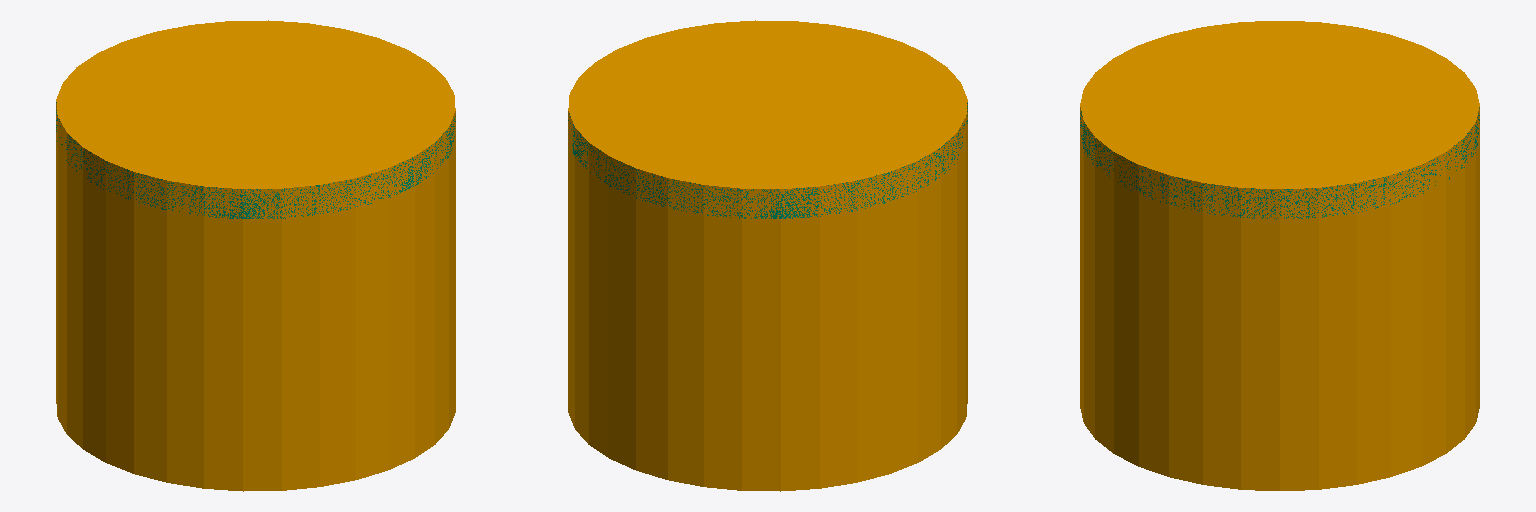
URDF robot description (2_T):
<?xml version="1.0"?>

<robot name="2_T">

    <!-- The base --> 
    <link name="base_link">
        <inertial>
            <origin xyz="0 0 .5" rpy="0 0 0"/>
            <mass value="1"/>
            <inertia ixx="0.1" ixy="0.0" ixz="0.0" iyy="0.1" iyz="0.0" izz="0.1"/>
        </inertial>
        <visual>
            <origin xyz="0 0 .5" rpy="0 0 0"/>
            <geometry>
                <cylinder length="1" radius="0.6"/>
            </geometry>
        </visual>
        <collision>
            <origin xyz="0 0 .5" rpy="0 0 0"/>
            <geometry>
                <cylinder length="1" radius="0.6"/>
            </geometry>
        </collision>
    </link>

    <!-- 0 -->
    <link name="0_link">
        <inertial>
            <origin xyz="0 0 0" rpy="0 0 0"/>
            <mass value="1"/>
            <inertia ixx="0.01" ixy="0.0" ixz="0.0" iyy="0.01" iyz="0.0" izz="0.01"/>
        </inertial>
        <visual>
            <origin xyz="0 0 0" rpy="0 0 0"/>
            <geometry>
                <cylinder length="0.9" radius="0.2"/>
            </geometry>
        </visual>
        <collision>
            <origin xyz="0 0 0" rpy="0 0 0"/>
            <geometry>
                <cylinder length="0.9" radius="0.2"/>
            </geometry>
        </collision>
    </link>

    <!-- Joint from base to 0 -->
    <joint name="base_0_joint" type="fixed">
        <parent link="base_link"/>
        <child link="0_link"/>
        <origin xyz="0 0 0.45" rpy="0 0 0"/>
    </joint>

    <!-- 1 -->
    <link name="1_link">
        <inertial>
            <origin xyz="0 0 0" rpy="0 0 0"/>
            <mass value="1"/>
            <inertia ixx="0.01" ixy="0.0" ixz="0.0" iyy="0.01" iyz="0.0" izz="0.01"/>
        </inertial>
        <visual>
            <origin xyz="0 0 0" rpy="0 0 0"/>
            <geometry>
                <cylinder length="0.1" radius="0.6"/>
            </geometry>
        </visual>
        <collision>
            <origin xyz="0 0 0" rpy="0 0 0"/>
            <geometry>
                <cylinder length="0.1" radius="0.6"/>
            </geometry>
        </collision>
    </link>

    <!-- Joint from 0 to 1 -->
    <joint name="0_1_joint" type="fixed">
        <parent link="0_link"/>
        <child link="1_link"/>
        <origin xyz="0 0 0.5" rpy="0 0 0"/>
    </joint>

</robot>

--- Facts derived from the render (not from the file) ---
Views: 3 orthographic renders of the robot side by side, from view 1: azimuth 30°, elevation 25°; view 2: azimuth 150°, elevation 25°; view 3: azimuth 270°, elevation 25°.
Robot: 2_T — 3 links, 2 joints (2 fixed); root link base_link; default pose: every joint at zero.
Links seen in each view (by area): view 1: base_link, 1_link; view 2: base_link, 1_link; view 3: base_link, 1_link.
Link boxes in pixels (<box>): base_link: <box>56,20,455,491</box>; 1_link: <box>56,102,455,218</box>; base_link: <box>568,20,967,491</box>; 1_link: <box>568,103,967,218</box>; base_link: <box>1080,21,1479,490</box>; 1_link: <box>1080,107,1479,219</box>.
Bounding box of the posed robot: 1.2 × 1.2 × 1 m (x, y, z).
Geometry: primitives only (box / cylinder / sphere), no mesh files.
